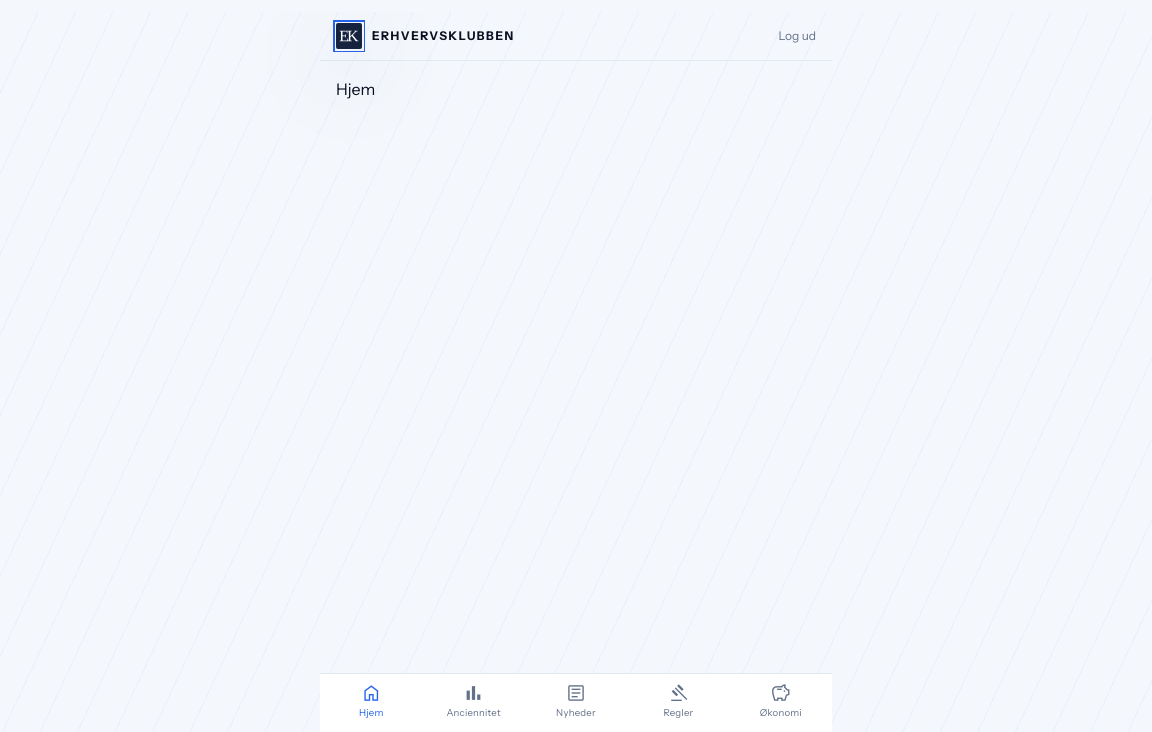
the mark walks its line, and is replaced on arrival so it can walk again
Click the link "Regler" at (678, 699), box x1=663 y1=680 x2=693 y2=718
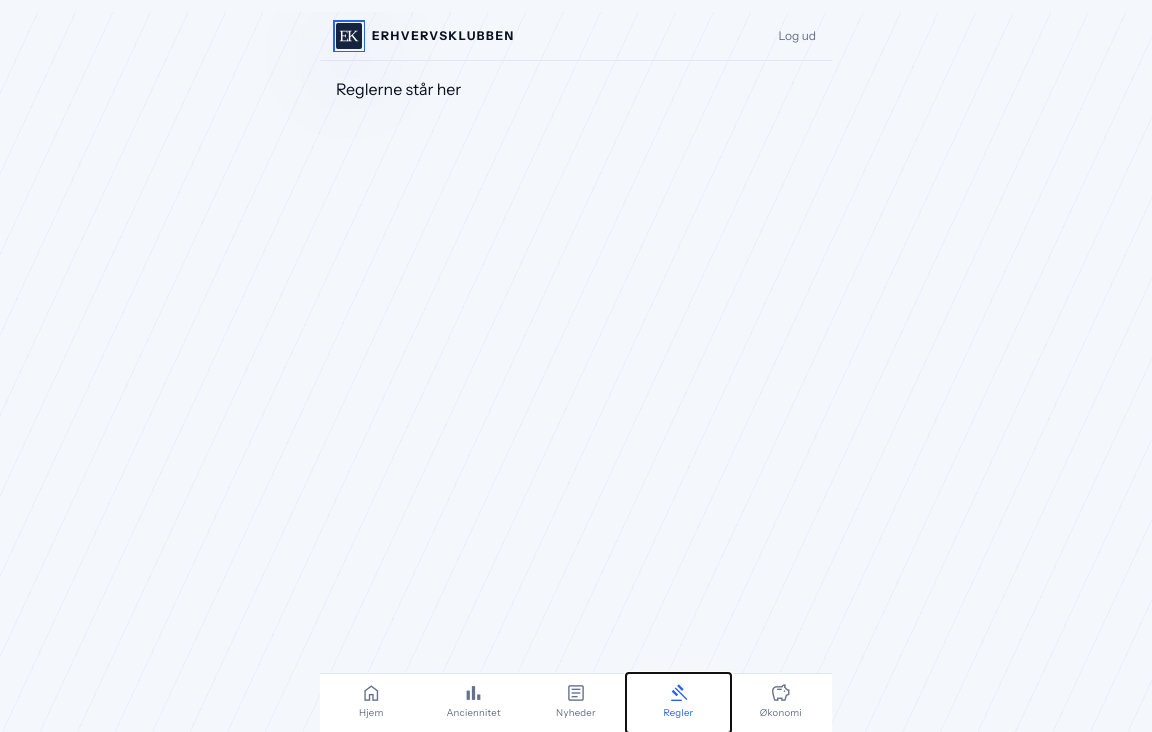
expect the text "Reglerne står her" is shown: met, box x1=336 y1=79 x2=461 y2=99
